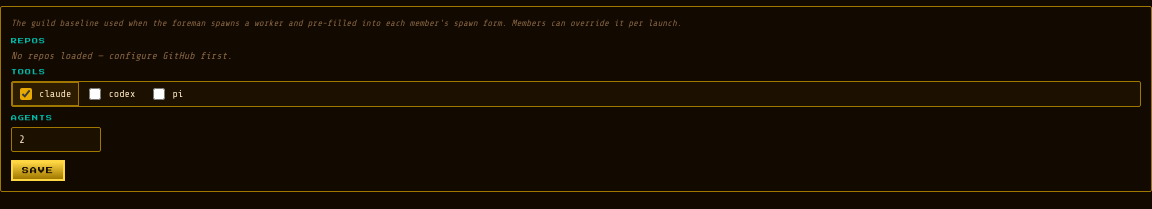
GuildSpawnDefaults › saves the edited defaults via PUT
Click the button with class "gsd-save-btn".
click(38, 170)  # box [11,160,65,181]
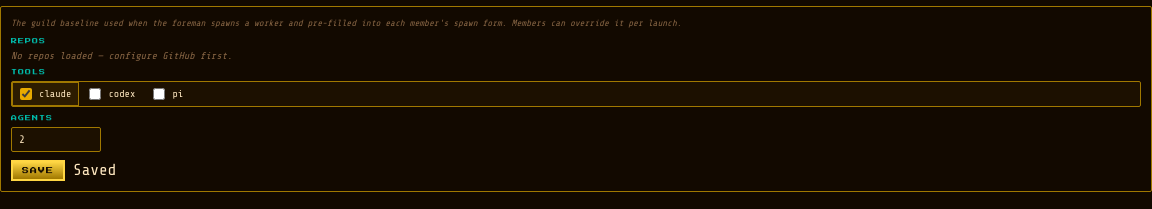
Now the text "Saved" is shown, box [73,161,116,179]
